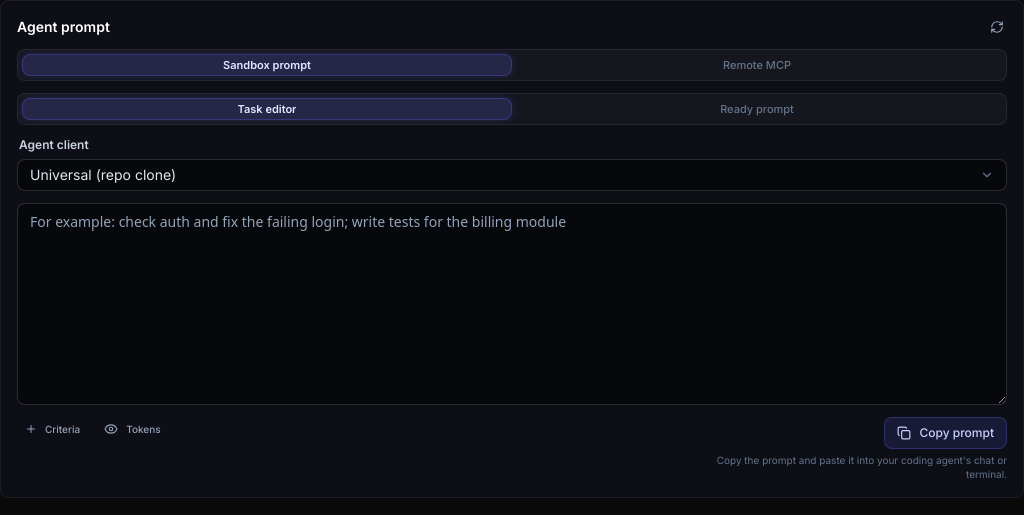
Test case: DevboxPrompt copy flow › on clipboard reject shows an error toast and a revealed manual-copy preview
This screenshot has width=1024, height=515.
Click the button with test id "devbox-prompt-copy": (946, 433) [884, 417, 1007, 449]
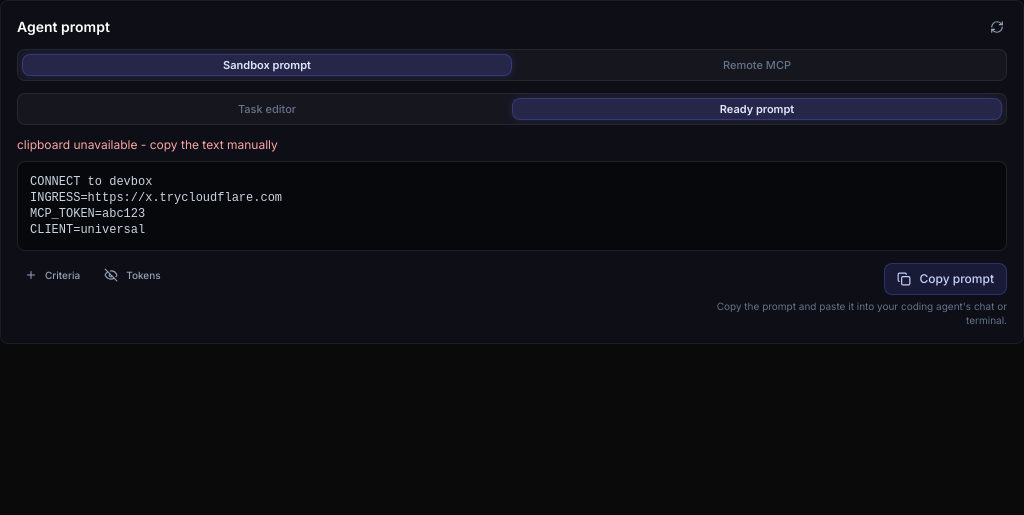
Now the text with test id "devbox-prompt-manual-copy" reads "clipboard unavailable - copy the text manually", box [17, 137, 278, 152]
